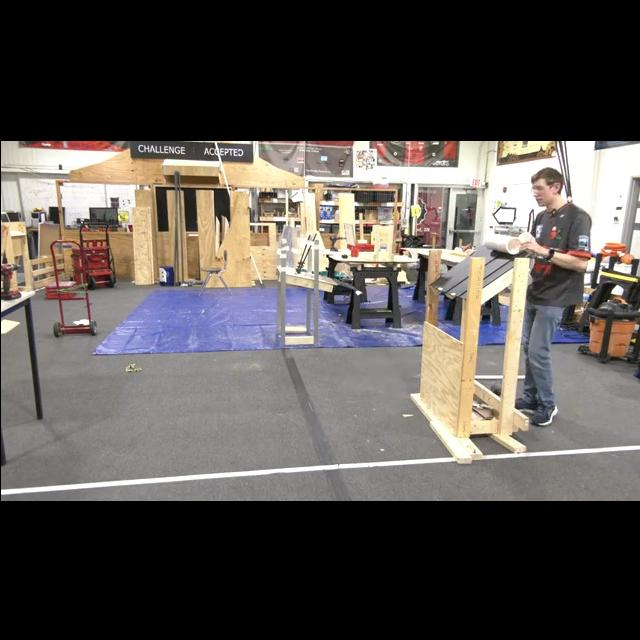CORAL: (481, 230, 531, 254)
